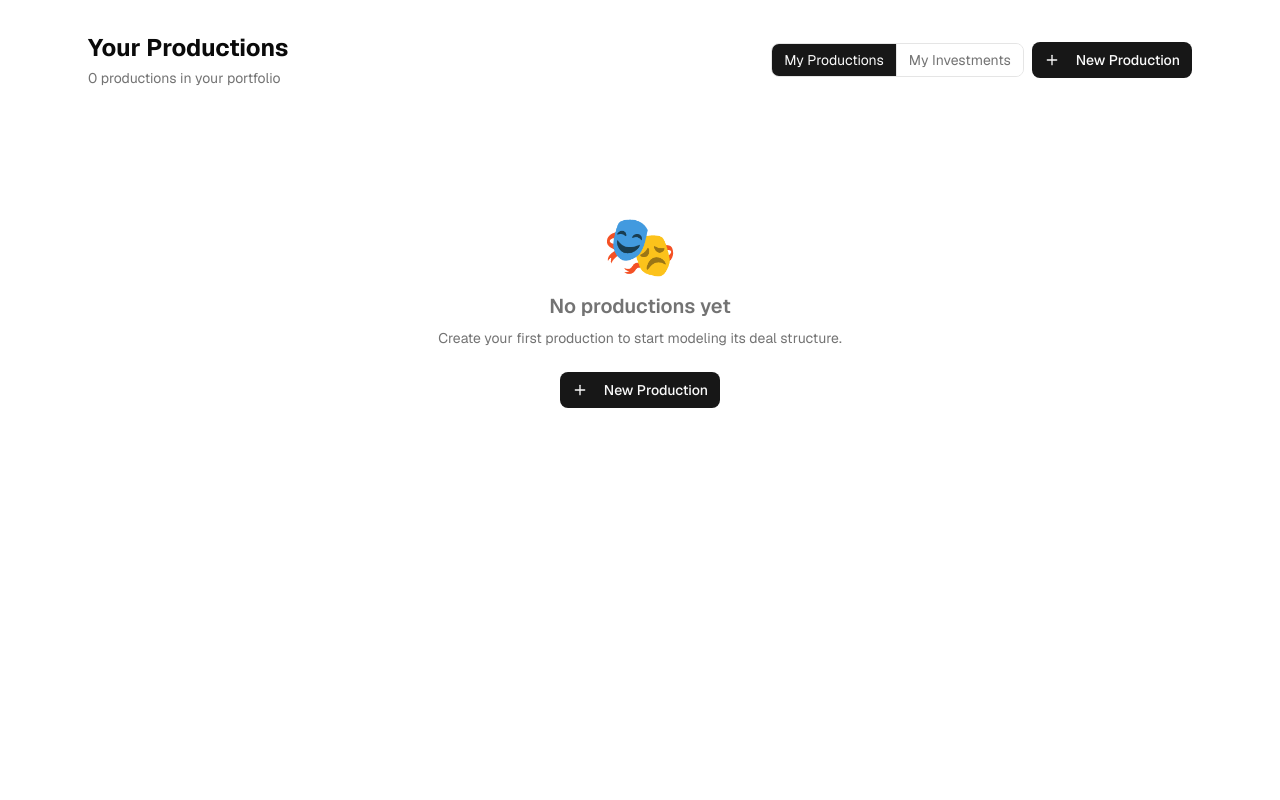
Test: DashboardPage › create production › opens a dialog with form fields when 'New Production' is clicked
# Click the header-level "New Production" button
Click the button "New Production" in the row of "Your Productions" at (1112, 60), box [1032, 42, 1192, 78]
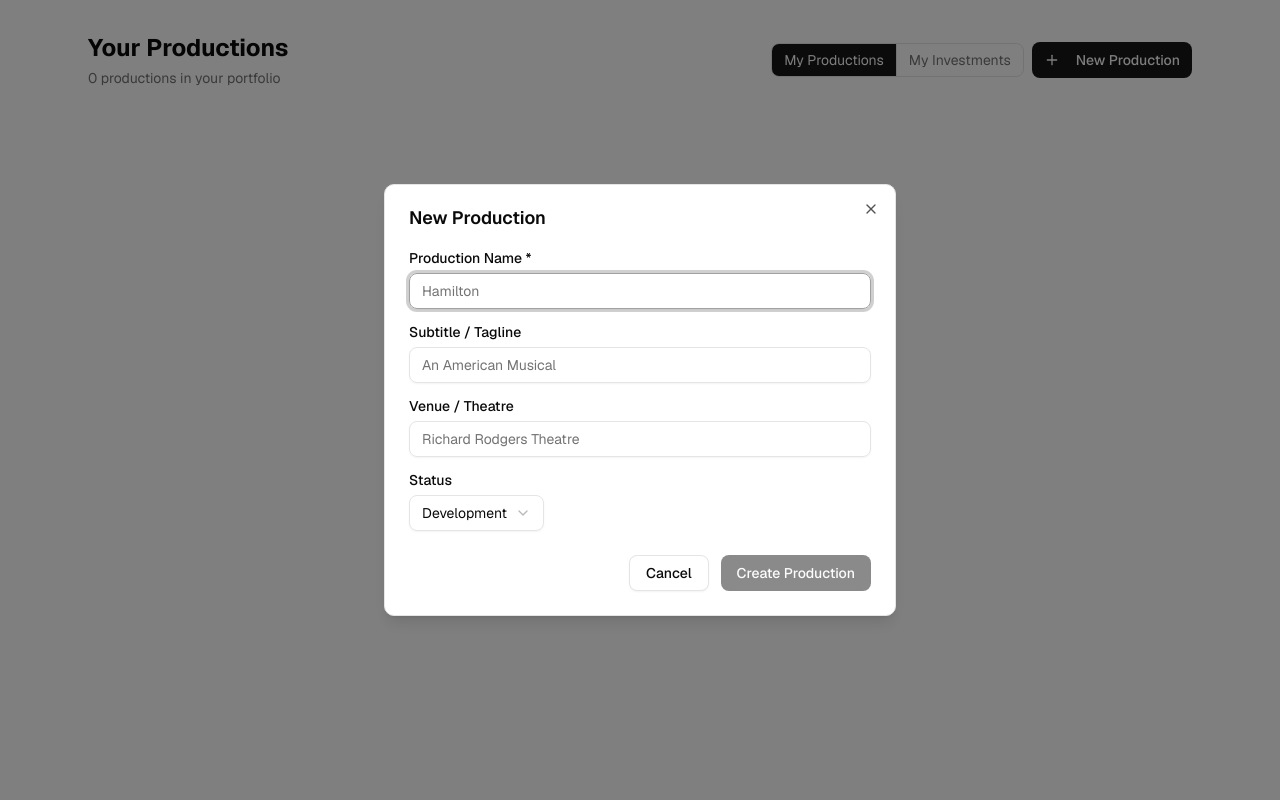
Check: the field labelled "Production Name *" is shown, box [409, 273, 871, 309]
Check: the field labelled "Subtitle / Tagline" is shown, box [409, 347, 871, 383]
Check: the field labelled "Venue / Theatre" is shown, box [409, 421, 871, 457]
